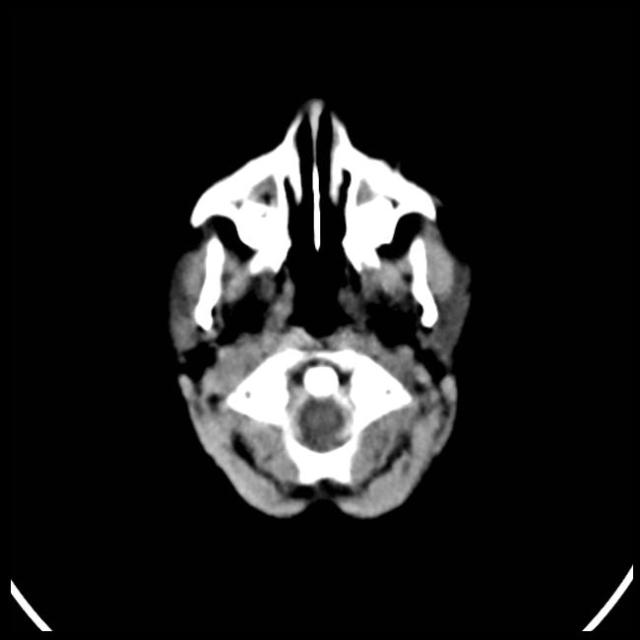lesion: (160, 92, 480, 526)
